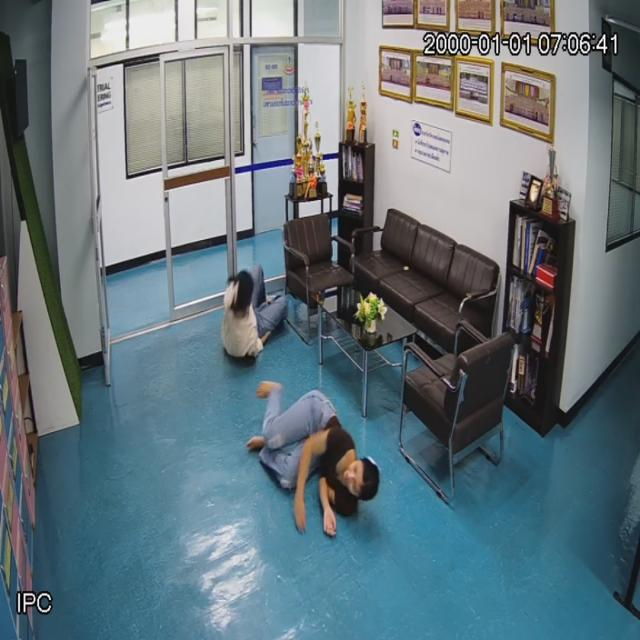fall: (243, 386, 385, 528), (210, 254, 282, 354)
